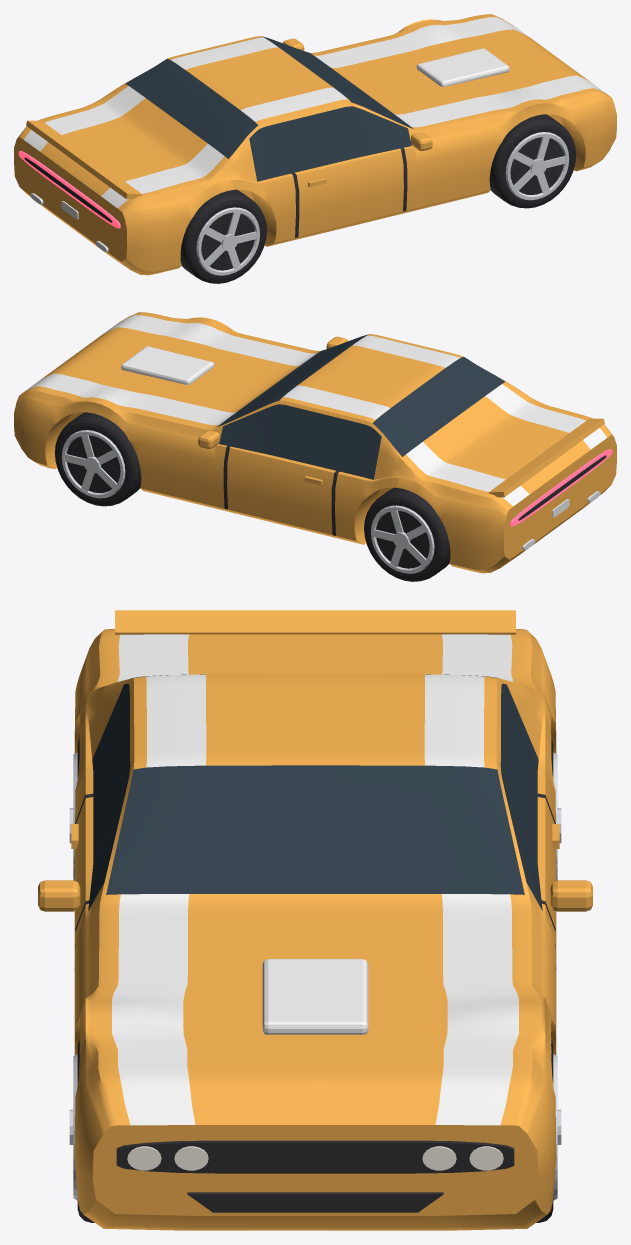
Rendered from dodje_chalenjer.fbx.
The picture shows the model from 3 angles, top to bottom: view 1: azimuth 30°, elevation 25°; view 2: azimuth 150°, elevation 25°; view 3: azimuth 270°, elevation 25°; orthographic projection. The views are drawn at different scales.
Parts seen in each view (by area): view 1: Body.009, Stripe.001, Glass.009, Tire.009, Rim.009, Trim.009, TailLight.009; view 2: Body.009, Stripe.001, Glass.009, Tire.009, Rim.009, Trim.009, TailLight.009; view 3: Body.009, Glass.009, Stripe.001, Trim.009, HeadLight.009, Rim.009.
Part boxes in pixels (<box>): Body.009: <box>14,14,616,275</box>; Stripe.001: <box>23,17,606,208</box>; Glass.009: <box>125,36,413,181</box>; Tire.009: <box>180,114,575,283</box>; Rim.009: <box>196,132,569,275</box>; Trim.009: <box>24,137,563,269</box>; TailLight.009: <box>18,151,120,228</box>; Body.009: <box>14,312,616,573</box>; Stripe.001: <box>24,315,607,506</box>; Glass.009: <box>217,334,505,479</box>; Tire.009: <box>55,412,450,581</box>; Rim.009: <box>61,430,434,573</box>; Trim.009: <box>67,435,606,567</box>; TailLight.009: <box>510,449,612,526</box>; Body.009: <box>38,610,592,1230</box>; Glass.009: <box>88,674,542,910</box>; Stripe.001: <box>112,634,518,1125</box>; Trim.009: <box>74,793,556,1212</box>; HeadLight.009: <box>127,1146,503,1170</box>; Rim.009: <box>69,752,561,1200</box>.
Size of the model in its own units: 1618 by 441 by 784.
